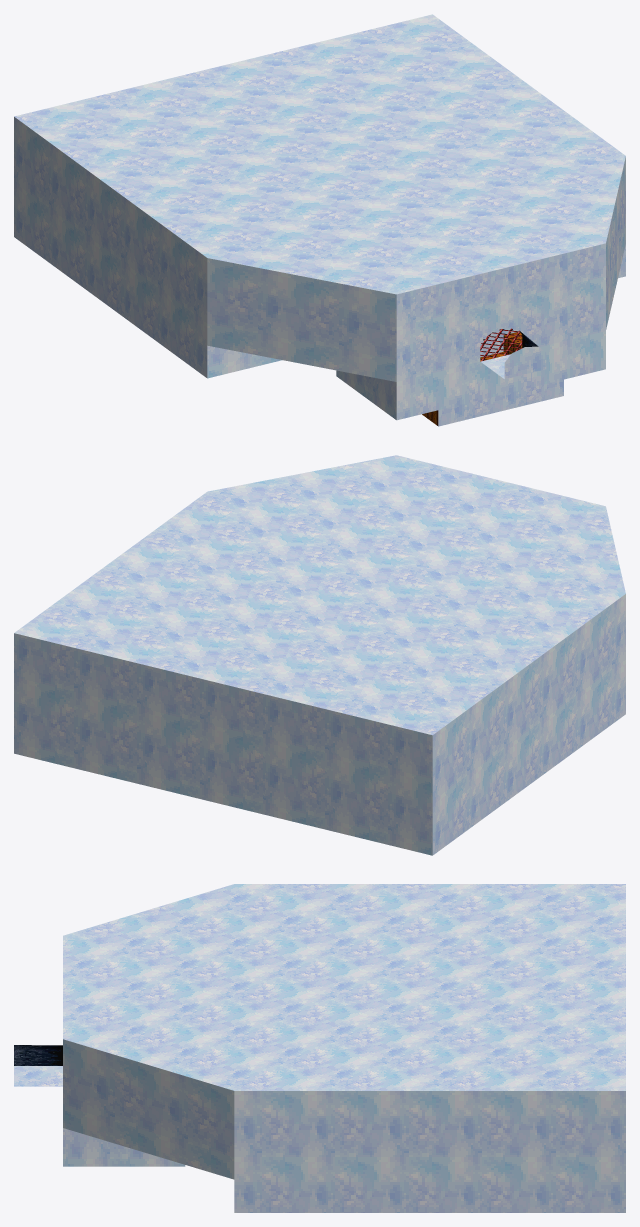
File: snow_kama_all.obj
The picture shows the model from 3 angles, top to bottom: view 1: azimuth 30°, elevation 25°; view 2: azimuth 150°, elevation 25°; view 3: azimuth 270°, elevation 25°; orthographic projection.
Visible parts, largest first — view 1: r0; view 2: r0; view 3: r0.
Boxes of the visible parts, x1,y1,x2,y2 form: r0: [14, 14, 625, 426]; r0: [14, 455, 625, 855]; r0: [14, 884, 625, 1212].
Size of the model in its own units: 4 by 1.3 by 5.
